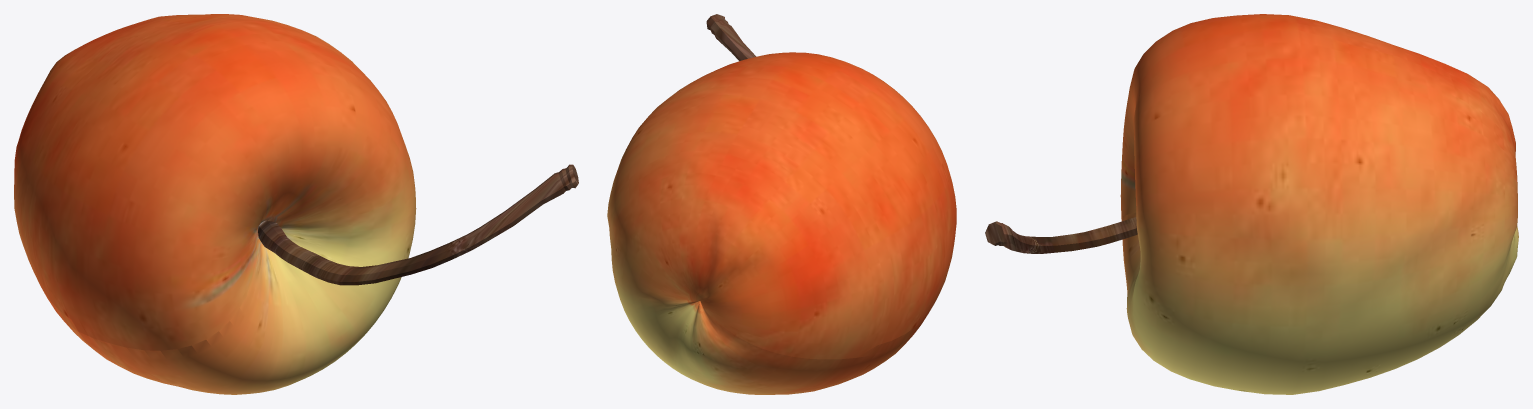
The model's file is apple.obj.
3 views of the same model, side by side, from view 1: azimuth 30°, elevation 25°; view 2: azimuth 150°, elevation 25°; view 3: azimuth 270°, elevation 25° (orthographic). The views are drawn at different scales.
Visible parts, largest first — view 1: apple_skin, apple_stem; view 2: apple_skin, apple_stem; view 3: apple_skin, apple_stem.
Boxes of the visible parts, box(x1,y1,x2,y2) form: apple_skin: box(14, 14, 416, 394); apple_stem: box(258, 164, 578, 285); apple_skin: box(607, 52, 956, 394); apple_stem: box(706, 14, 755, 60); apple_skin: box(1120, 14, 1518, 394); apple_stem: box(985, 217, 1137, 253).
Size of the model in its own units: 0.1165 by 0.0976 by 0.1347.
Materials: 2 (2 with a texture image).
